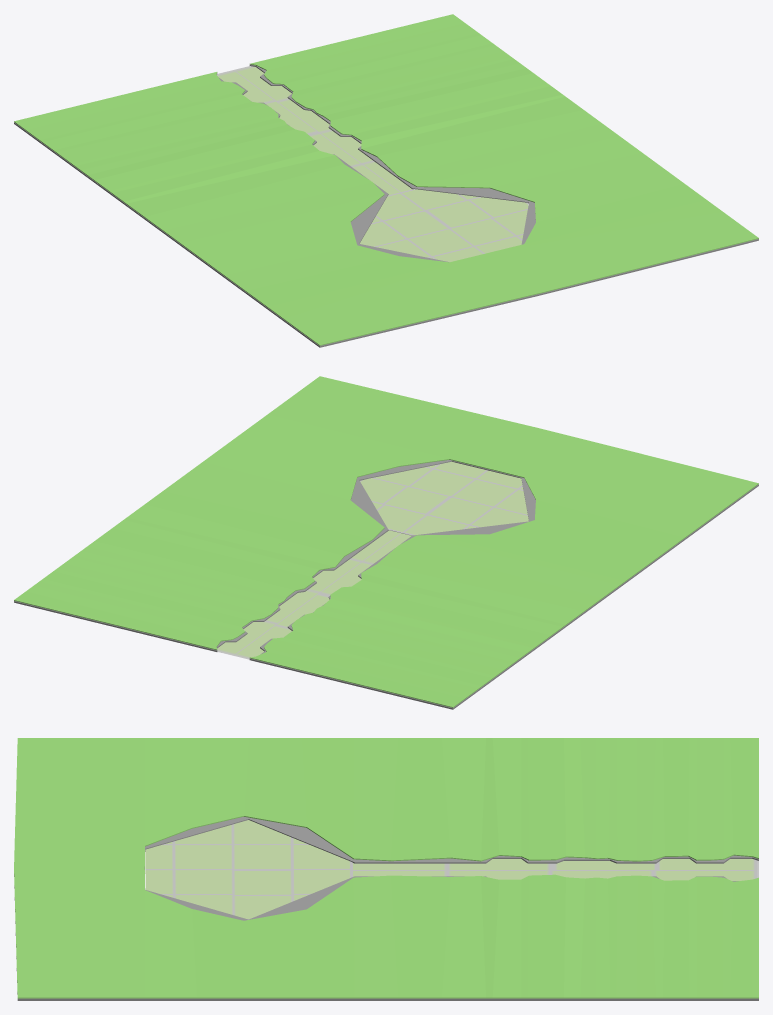
Rendered from floor.fbx.
3 views of the same model, one above another, from view 1: azimuth 30°, elevation 25°; view 2: azimuth 150°, elevation 25°; view 3: azimuth 270°, elevation 25° (orthographic). The views are drawn at different scales.
Visible parts, largest first — view 1: floor; view 2: floor; view 3: floor.
Boxes of the visible parts, x1,y1,x2,y2 form: floor: [14, 14, 758, 347]; floor: [14, 376, 758, 709]; floor: [14, 738, 758, 1000].
Size of the model in its own units: 3289 by 24.61 by 3988.
3 materials, 1 textured.
